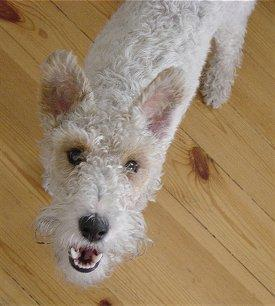wire-haired_fox_terrier: (34, 2, 264, 286)
